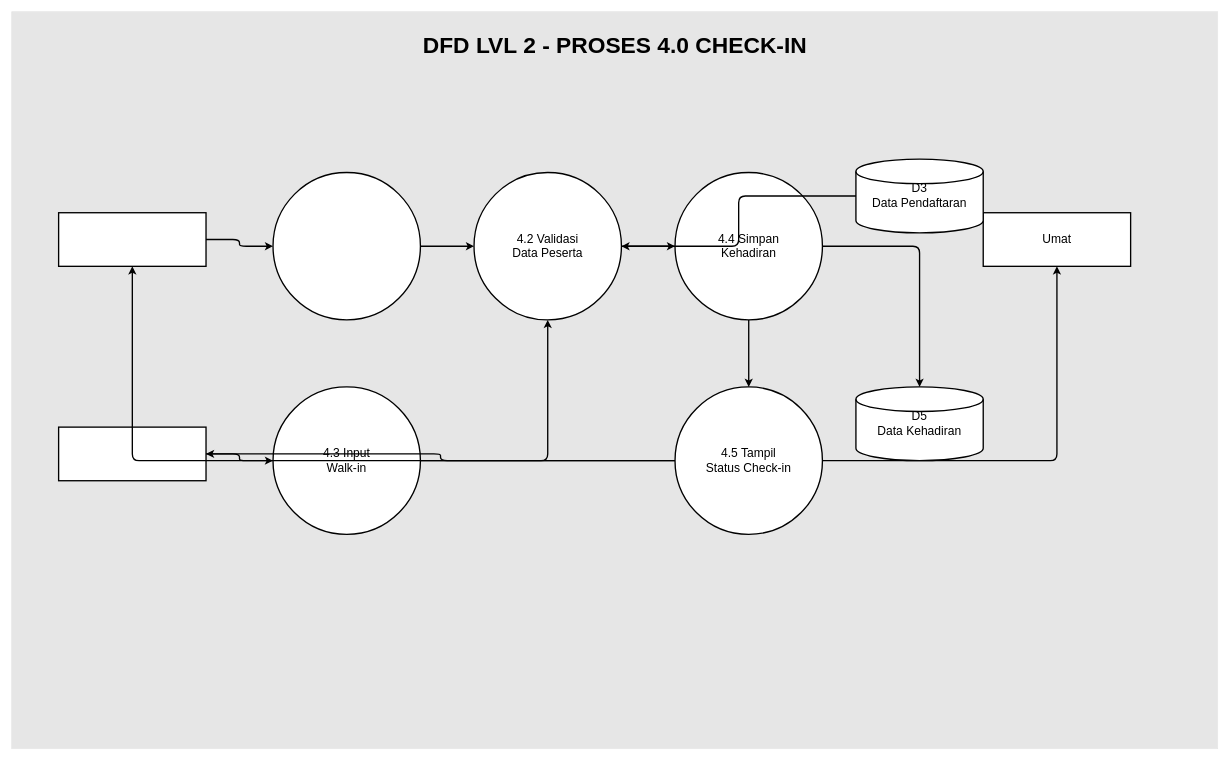
Image size: 1229x760. Some labels were removed from this diagram. The shapes that lost their labels are listed below. From the top down, each one's centre as x and y in pixels, then its label:
point 132,239: Petugas
point 346,246: 4.1 Scan Kode Registrasi
point 132,453: Admin
